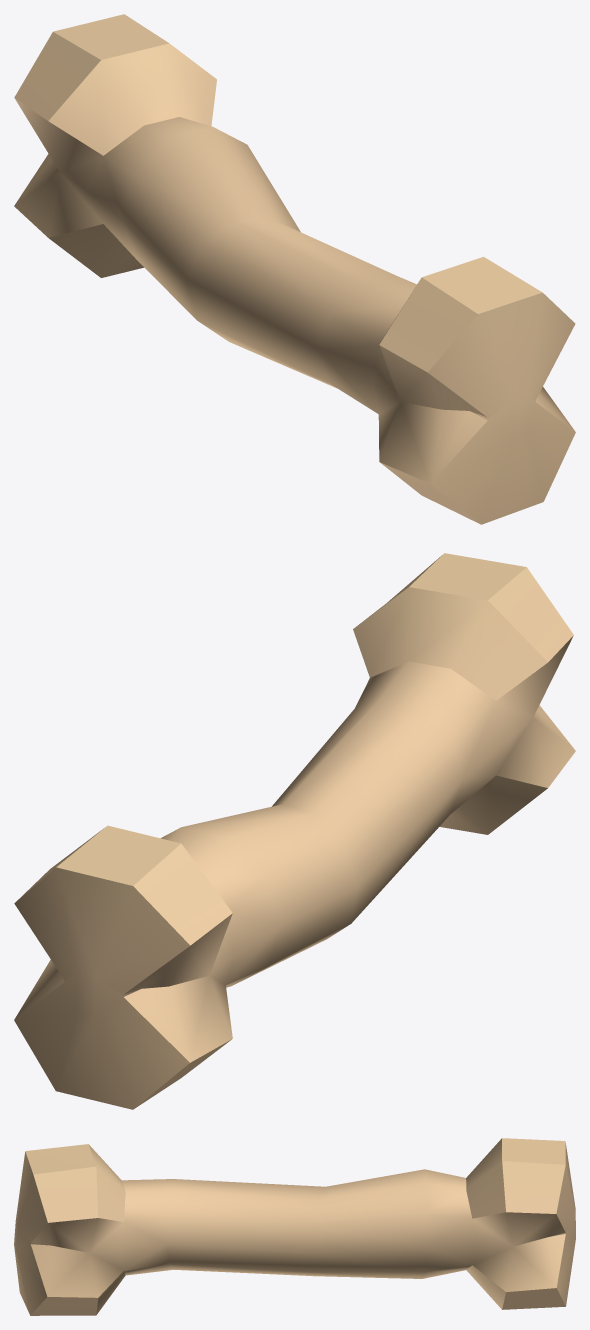
File: Bones_3.obj
3 views of the same model, one above another, from view 1: azimuth 30°, elevation 25°; view 2: azimuth 150°, elevation 25°; view 3: azimuth 270°, elevation 25° (orthographic). The views are drawn at different scales.
Visible parts, largest first — view 1: Bones_3; view 2: Bones_3; view 3: Bones_3.
Part boxes in pixels (box(x1,y1,x2,y2)): Bones_3: box(14, 14, 575, 524); Bones_3: box(14, 553, 575, 1109); Bones_3: box(14, 1138, 575, 1315).
Size of the model in its own units: 0.0539 by 0.0585 by 0.1999.
